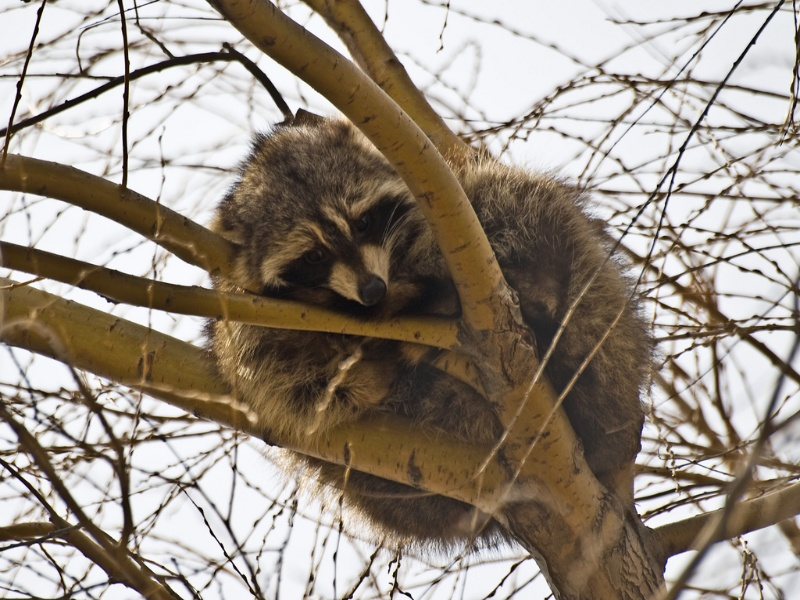raccoon: (214, 113, 653, 553)
